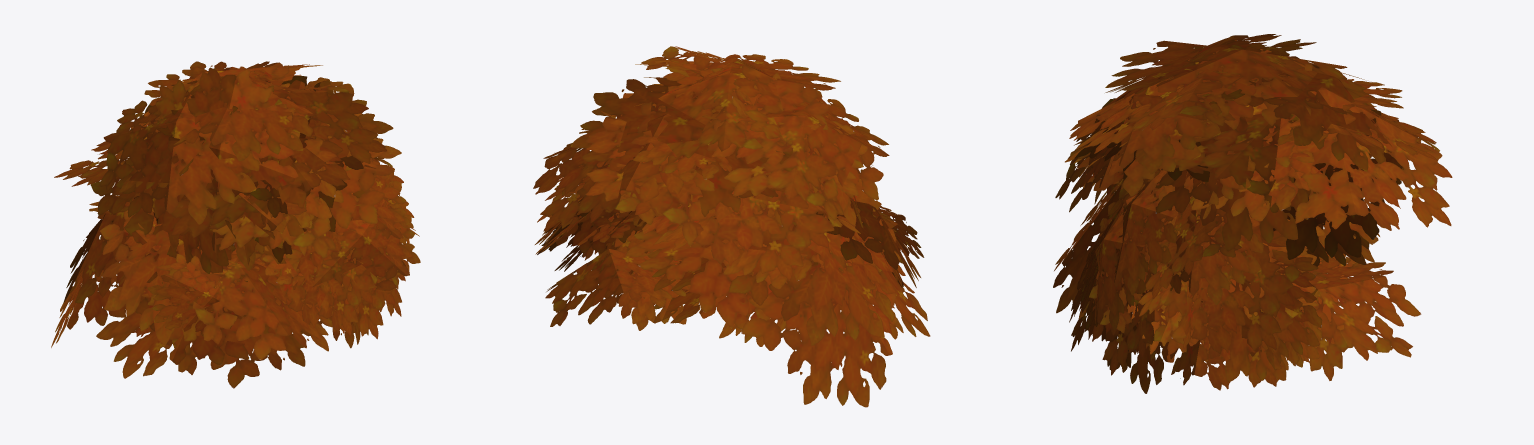
The model's file is guanmu_01.FBX.
3 views of the same model, side by side, from view 1: azimuth 30°, elevation 25°; view 2: azimuth 150°, elevation 25°; view 3: azimuth 270°, elevation 25° (orthographic). The views are drawn at different scales.
Visible parts, largest first — view 1: guanmu_01; view 2: guanmu_01; view 3: guanmu_01.
Boxes of the visible parts, x1,y1,x2,y2 form: guanmu_01: [51, 61, 420, 388]; guanmu_01: [533, 46, 930, 407]; guanmu_01: [1053, 34, 1452, 393].
Size of the model in its own units: 2.05 by 1.53 by 2.
